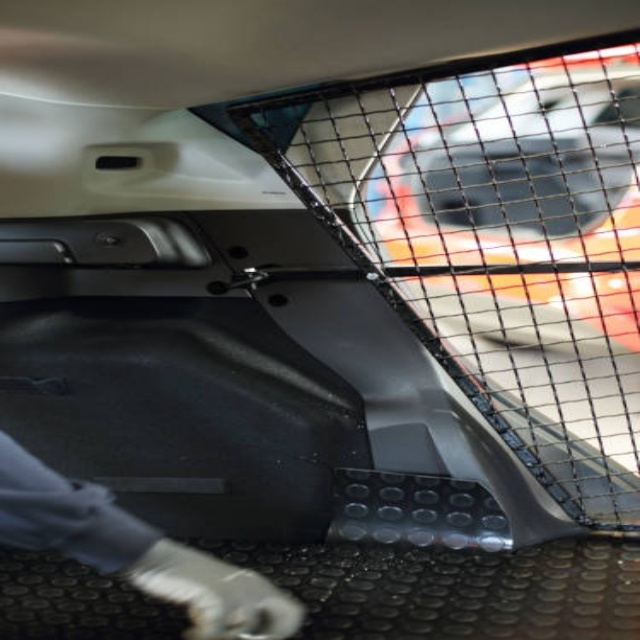Guantes: (120, 535, 309, 638)
